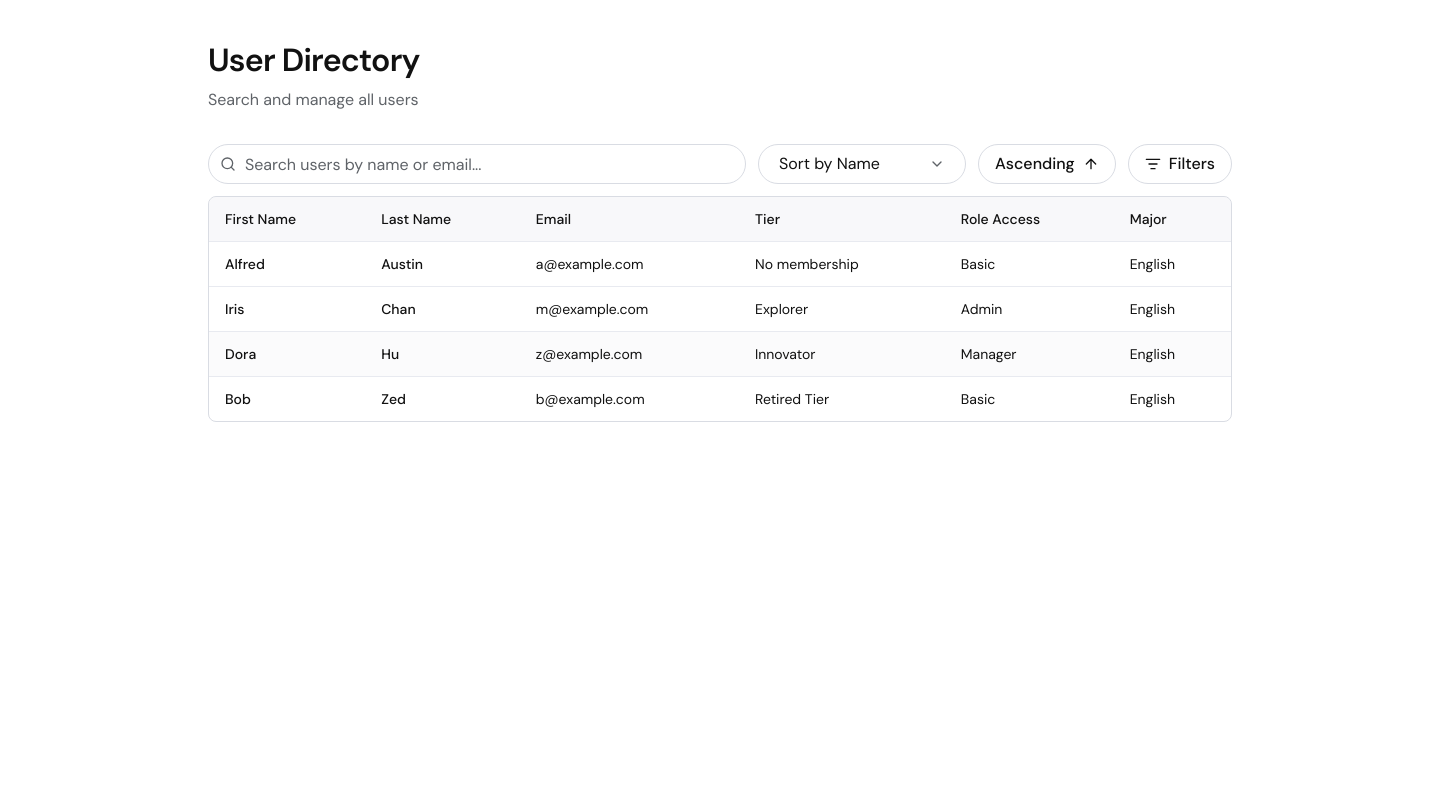
Scenario: AdminUsersManager › opens user details by Enter and returns focus to the row
Press Enter in the button with aria-label "View details for Dora Hu", box [209, 332, 1231, 376]
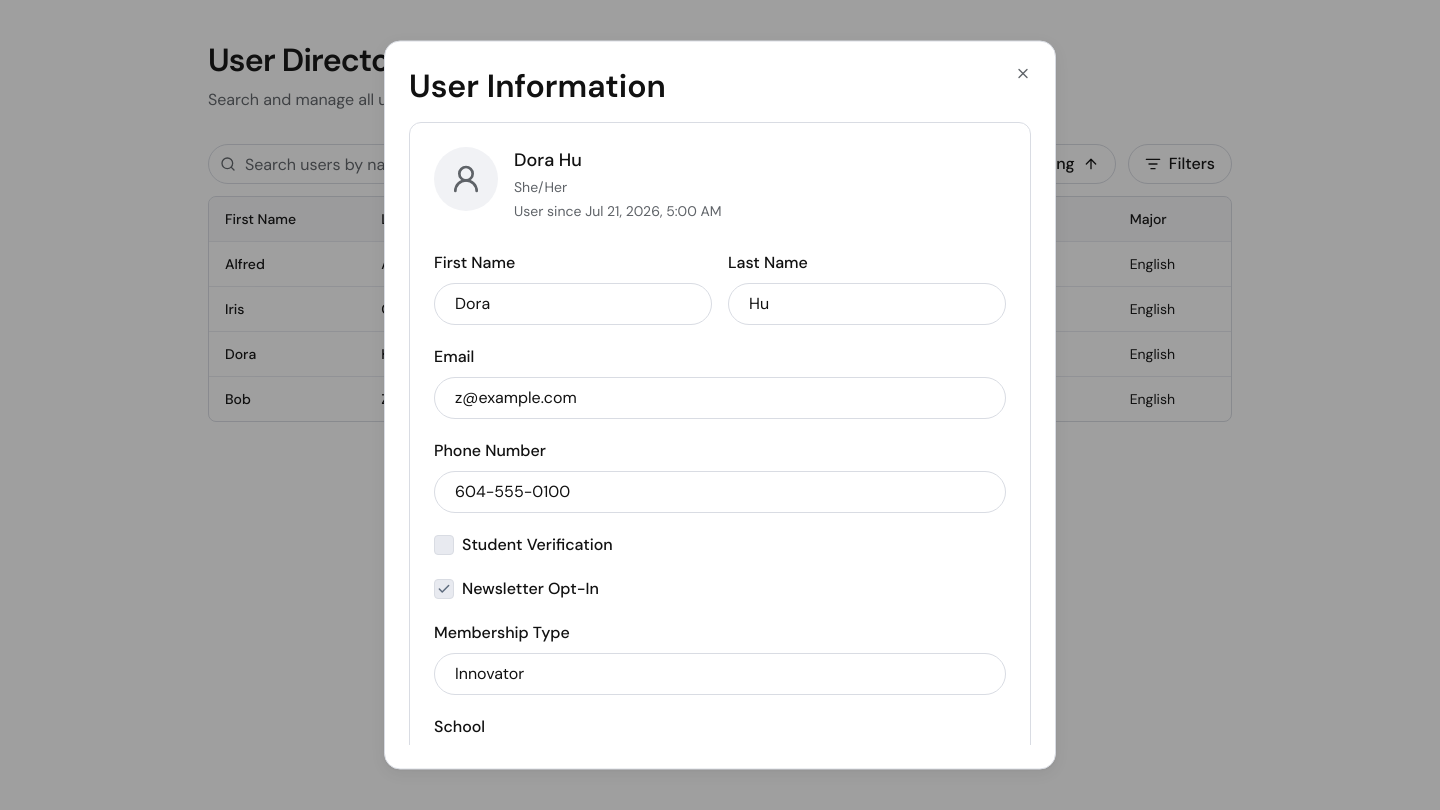
Check: the text "She/Her" is shown, box [514, 178, 567, 196]
Check: the checkbox labelled "Student Verification" is disabled, box [434, 534, 454, 554]
Click the button named "Close" at {"x": 1023, "y": 74}, box [1007, 58, 1039, 90]
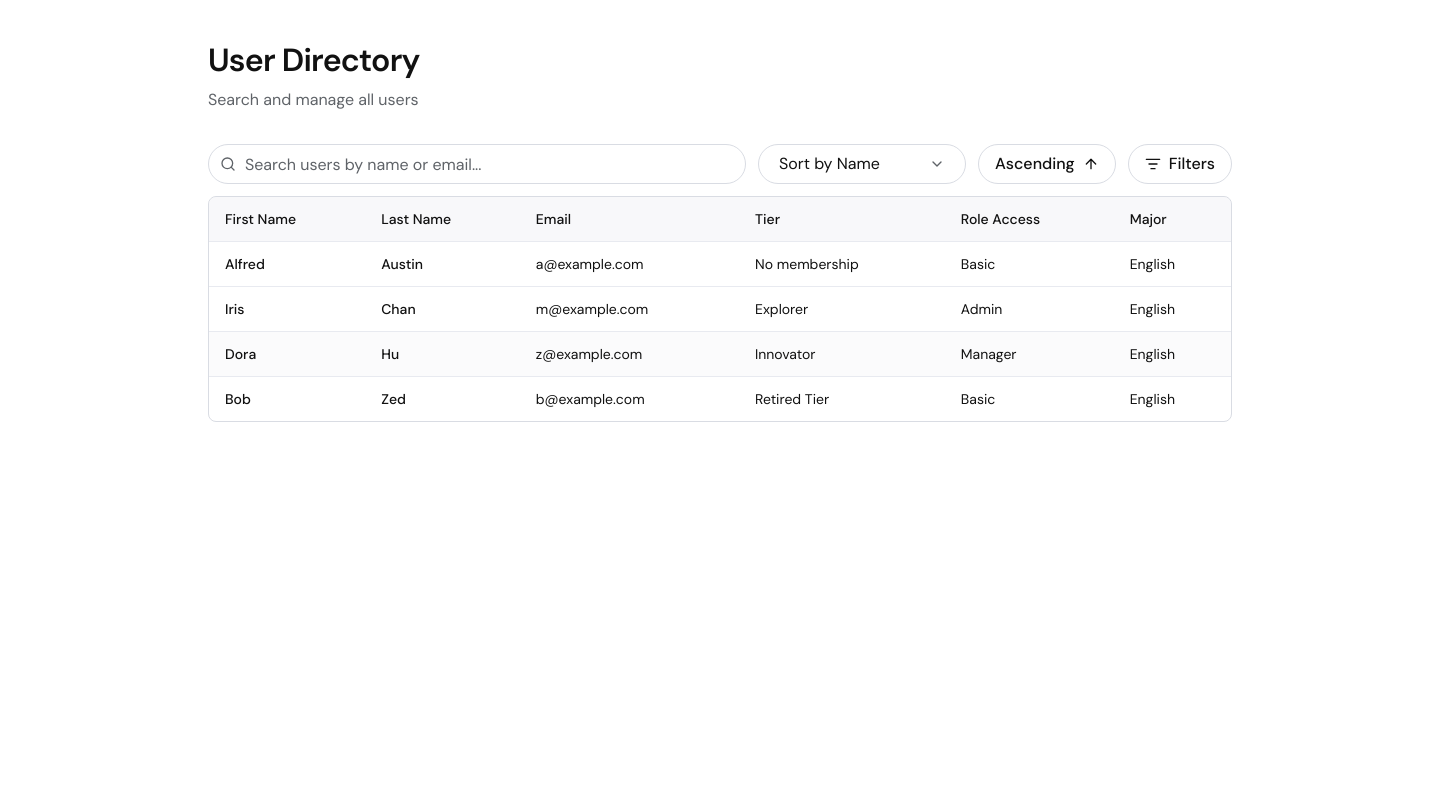
Check: the heading "User Information" is gone
